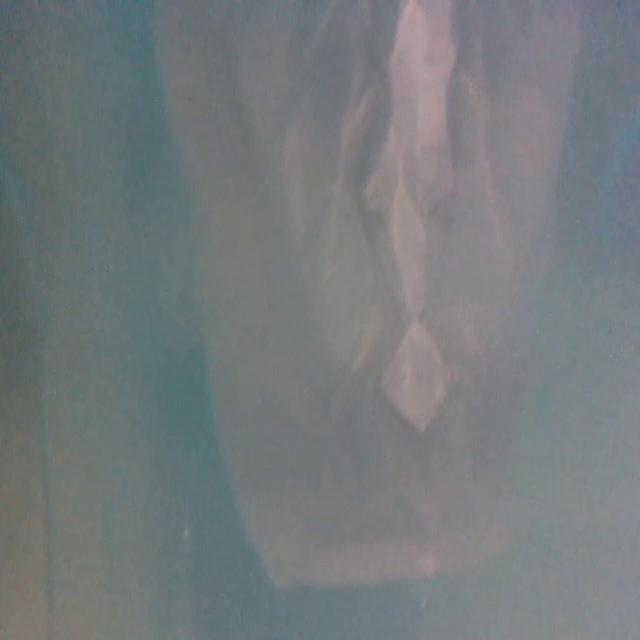plastic bottle: (162, 0, 590, 597)
